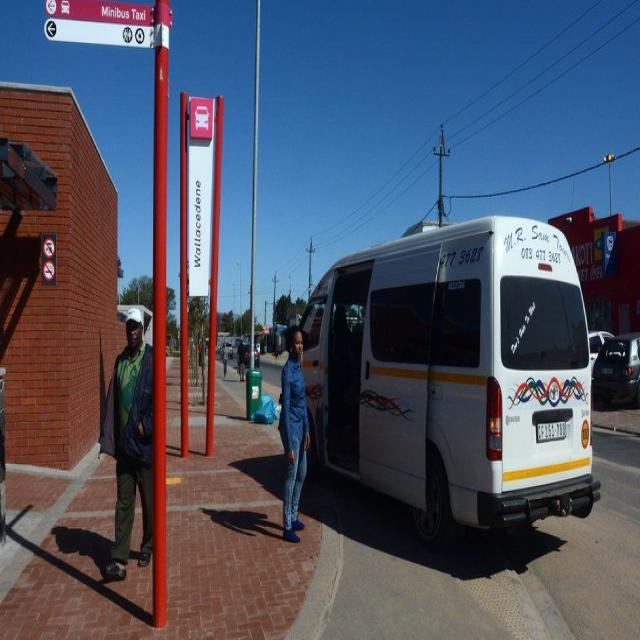MiniBus taxi: (305, 216, 608, 532)
Pedestrians: (100, 297, 154, 581), (279, 319, 315, 541)
